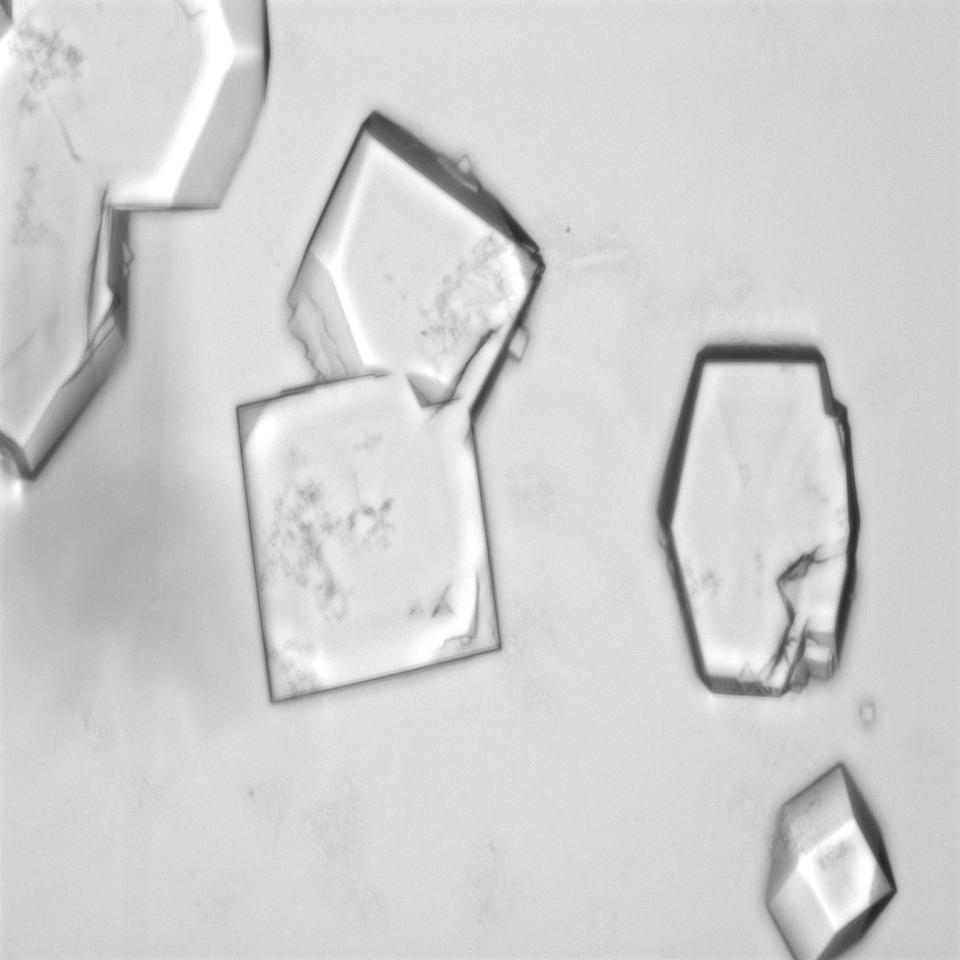crystal: (657, 330, 865, 710), (759, 762, 901, 954)
